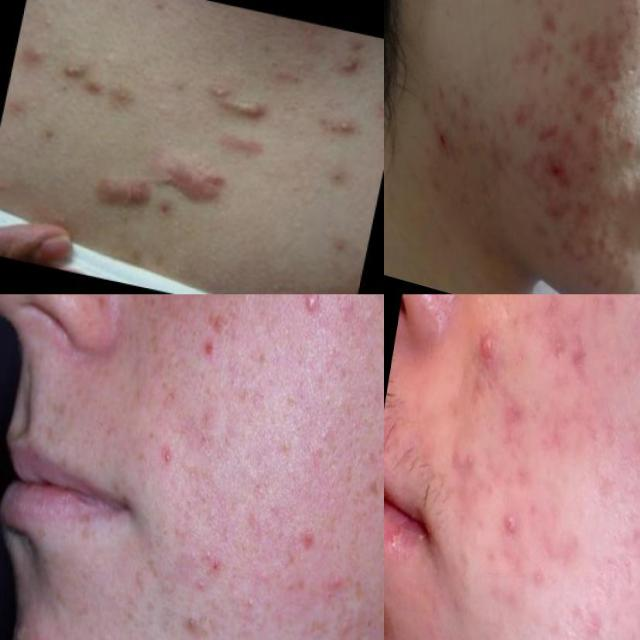acne_scars: (543, 325, 599, 386), (493, 389, 531, 431), (534, 196, 570, 226), (526, 126, 554, 151), (534, 15, 560, 37)
comedone: (326, 36, 374, 91), (232, 588, 263, 626), (629, 86, 640, 128), (621, 0, 636, 12)
keloid: (155, 149, 235, 209), (88, 167, 156, 219), (223, 95, 275, 124)
papule: (574, 20, 636, 92), (461, 313, 510, 373), (194, 298, 245, 344), (167, 592, 210, 640), (539, 143, 572, 189), (318, 566, 348, 613), (508, 92, 538, 134), (556, 232, 588, 262), (584, 232, 610, 264), (585, 119, 608, 149), (603, 189, 622, 211), (622, 132, 639, 154), (572, 107, 587, 126)
pustule: (294, 294, 334, 345), (495, 506, 523, 542), (58, 54, 91, 82), (328, 112, 358, 138)
